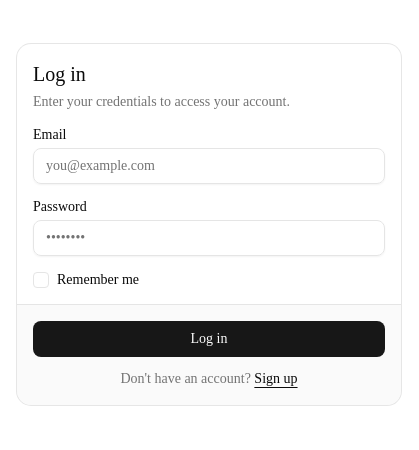
Test: LoginForm › shows the translated verify-email message on EMAIL_NOT_VERIFIED
In the field labelled "Email": [209, 166] box [33,148,385,184], type "a@b.com"
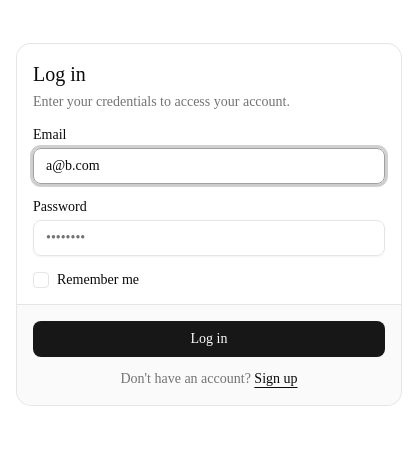
In the password field labelled "Password": [209, 238] box [33,220,385,256], type "secret12"
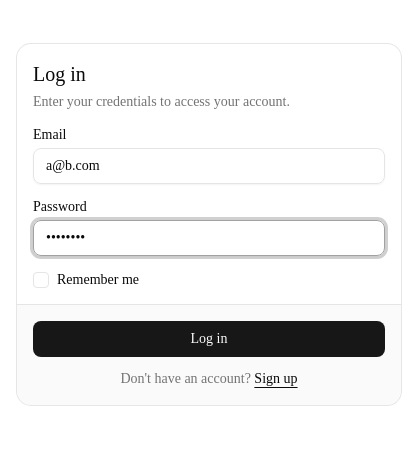
Click the button "Log in": [209, 338] box [33,320,385,356]
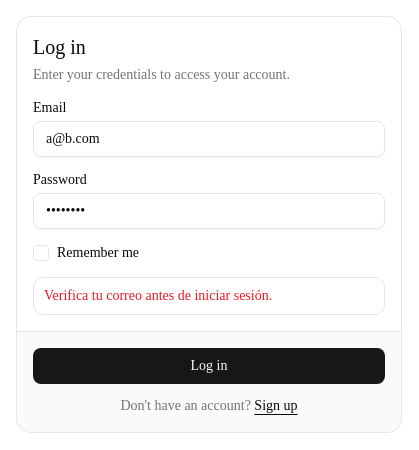
Expected: the text "Verifica tu correo antes de iniciar sesión." is shown, [44,288,272,302]
